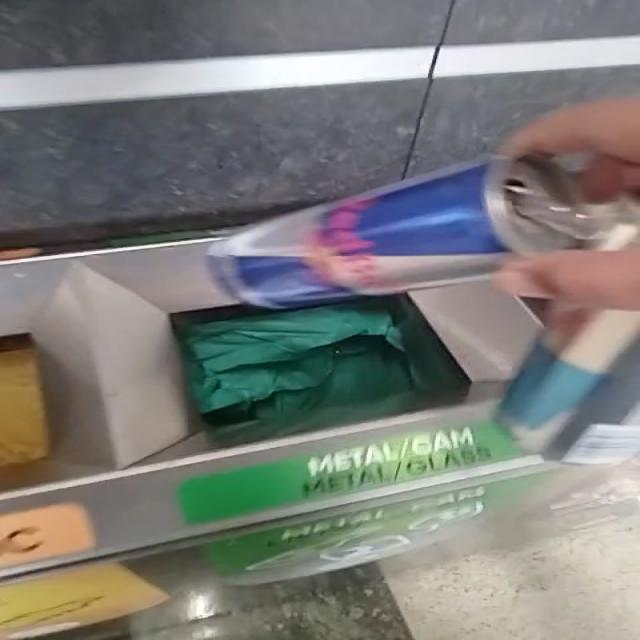bin: (3, 244, 540, 556)
metal: (208, 155, 639, 308)
